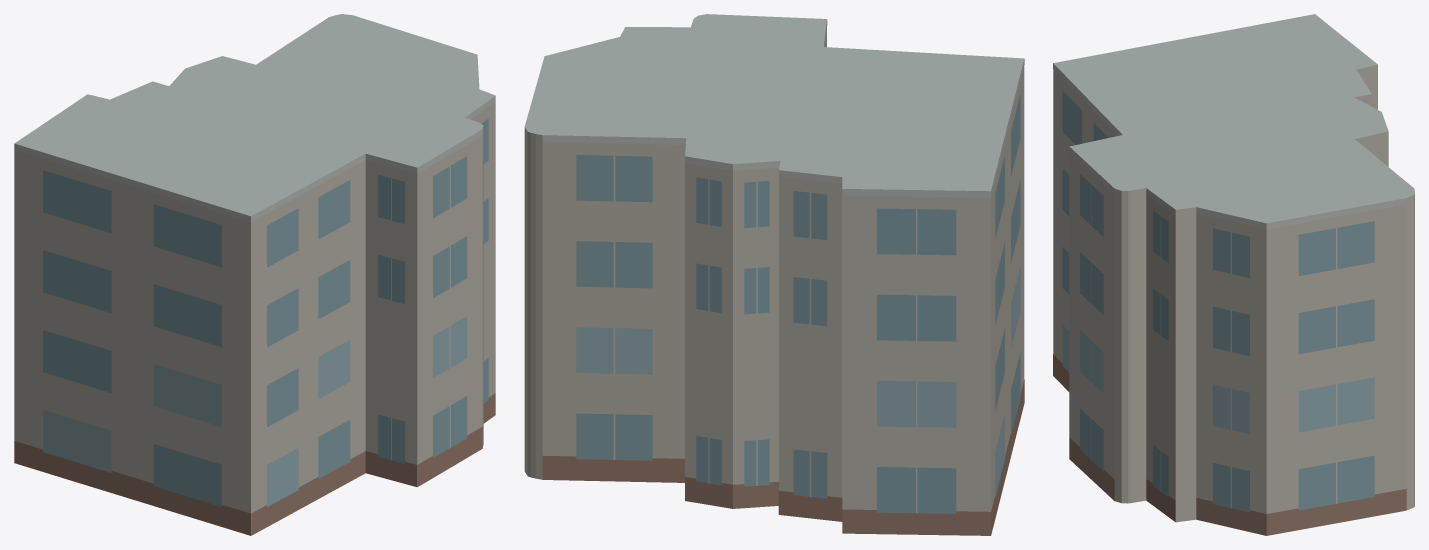
The model's file is survey-upis-32960260.glb.
The picture shows the model from 3 angles, left to right: view 1: azimuth 30°, elevation 25°; view 2: azimuth 150°, elevation 25°; view 3: azimuth 270°, elevation 25°; orthographic projection. The views are drawn at different scales.
Parts seen in each view (by area): view 1: survey-upis-32960260.tmp; view 2: survey-upis-32960260.tmp; view 3: survey-upis-32960260.tmp.
Boxes of the visible parts, left/top/right/bottom form: survey-upis-32960260.tmp: left=14, top=14, right=495, bottom=535; survey-upis-32960260.tmp: left=524, top=14, right=1024, bottom=535; survey-upis-32960260.tmp: left=1053, top=14, right=1414, bottom=535.
Size of the model in its own units: 18.4 by 12.8 by 13.43.
